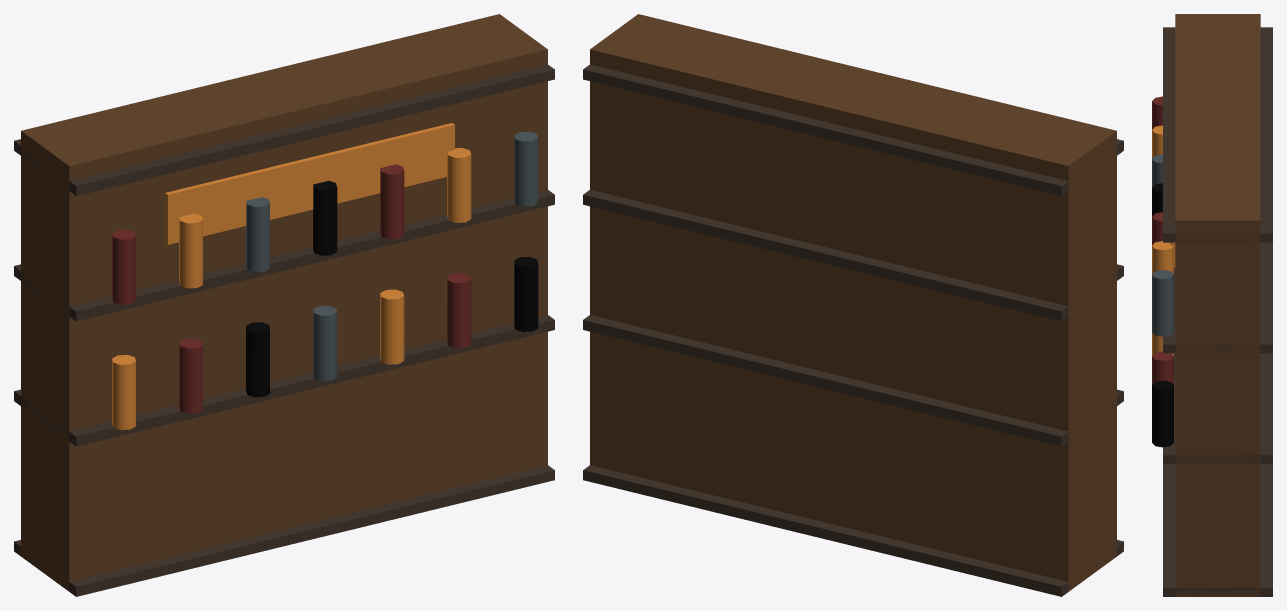
File: cantina_back_bar.glb
3 renders of one model, left to right at view 1: azimuth 30°, elevation 25°; view 2: azimuth 150°, elevation 25°; view 3: azimuth 270°, elevation 25°, orthographic. The views are drawn at different scales.
Parts seen in each view (by area): view 1: sw5e_int_cantina_back_bar; view 2: sw5e_int_cantina_back_bar; view 3: sw5e_int_cantina_back_bar.
Part boxes in pixels (<box>): sw5e_int_cantina_back_bar: <box>14,14,554,596</box>; sw5e_int_cantina_back_bar: <box>583,14,1123,596</box>; sw5e_int_cantina_back_bar: <box>1152,14,1272,596</box>.
Size of the model in its own units: 2 by 1.7 by 0.495.
